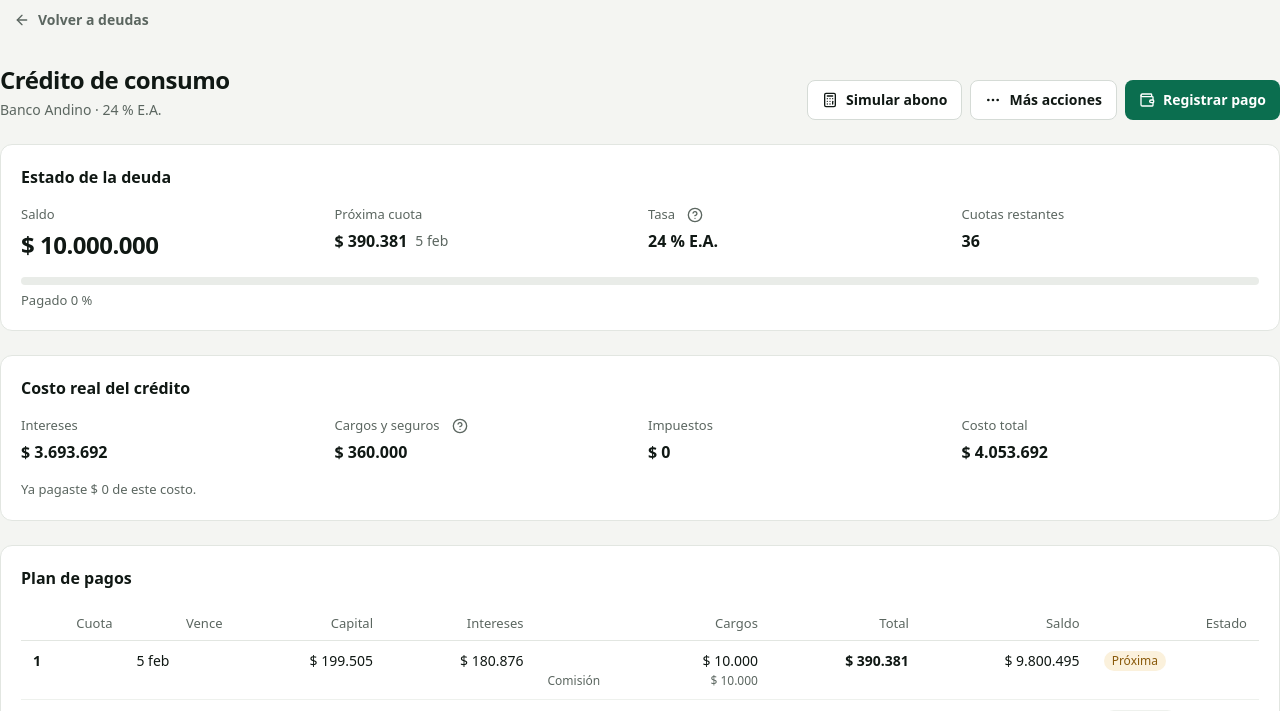
Test: DebtDetailContainer payment flow › reloads when a half-saved payment dialog is closed, so the saved event shows up
Click the button "Registrar pago" at (1202, 100), box [1125,80,1279,120]
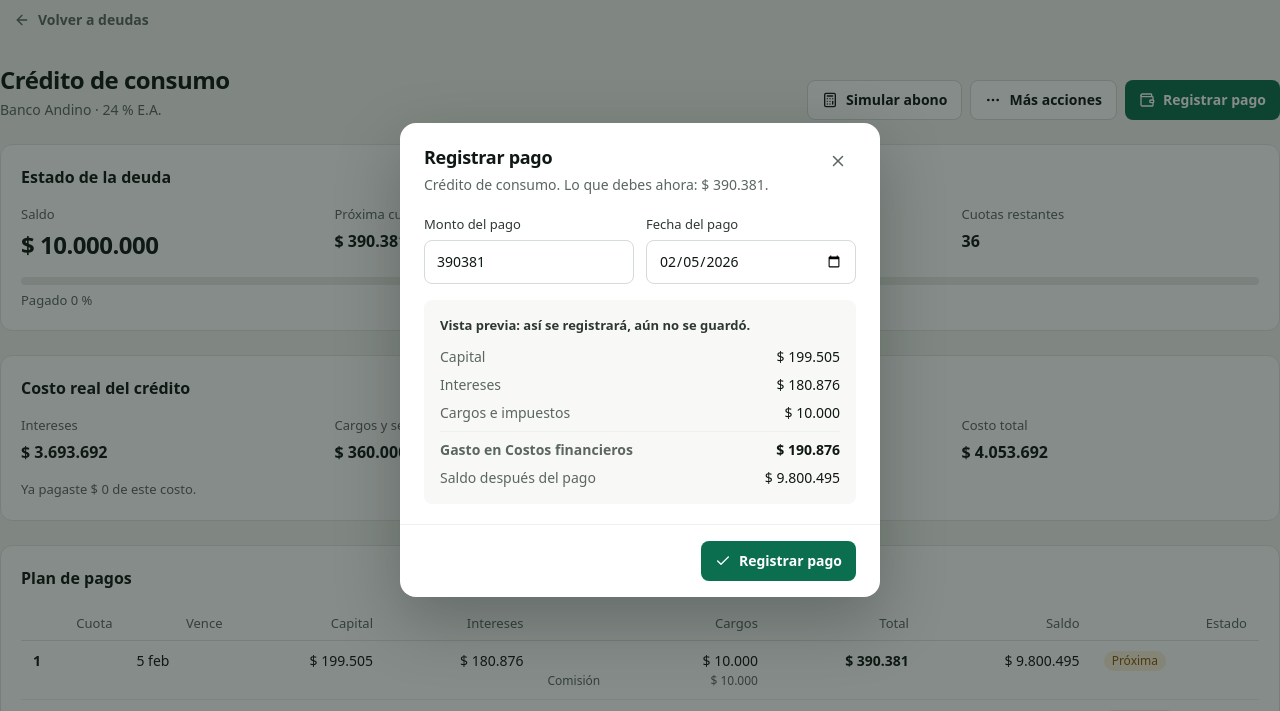
Click the button "Registrar pago" at (778, 561), box [701,541,856,581]
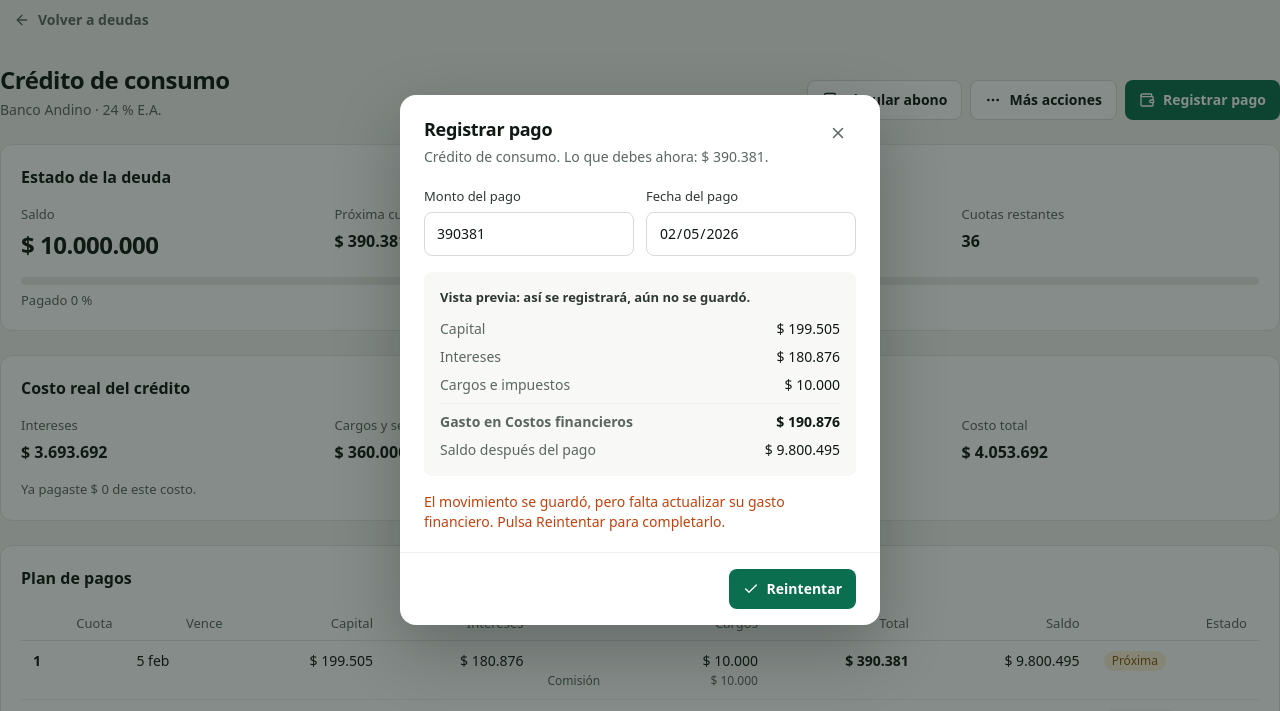
Check: the text "falta actualizar su gasto financiero" is shown, box [424,492,785,531]
Click the button named "Cerrar" at (838, 133), box [820,115,856,151]
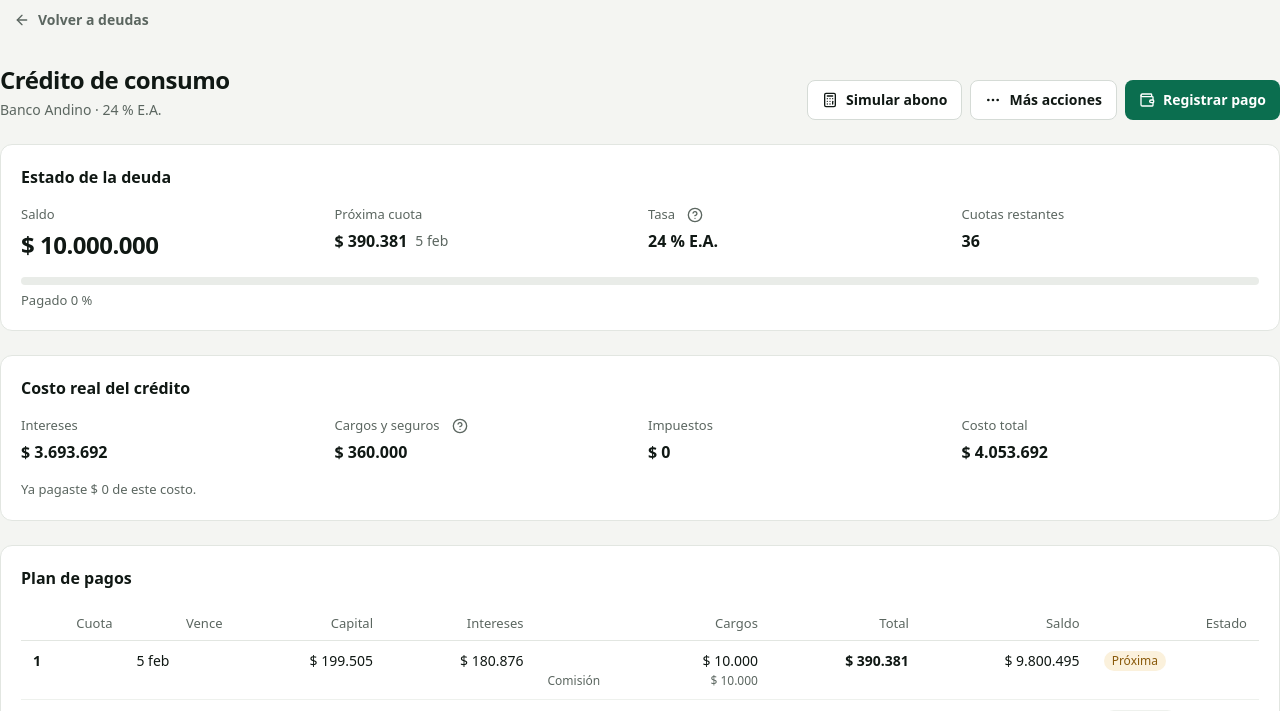
Check: the dialog is gone
